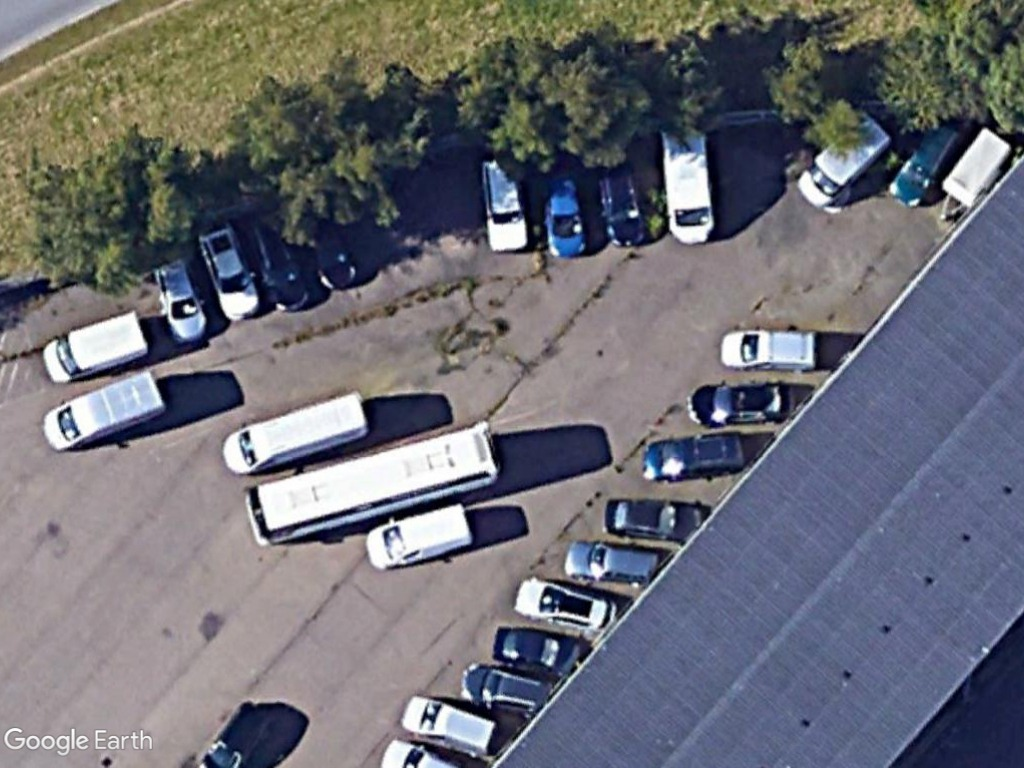bus: (238, 422, 509, 555)
car: (511, 574, 627, 636), (630, 427, 751, 485), (149, 248, 214, 347), (490, 620, 597, 678), (457, 655, 558, 716), (561, 536, 672, 590), (688, 374, 787, 432), (605, 491, 711, 545), (719, 324, 823, 375)
van: (219, 390, 369, 480), (42, 367, 163, 457), (790, 110, 893, 212), (38, 307, 154, 387), (359, 498, 480, 573), (401, 691, 506, 759)
